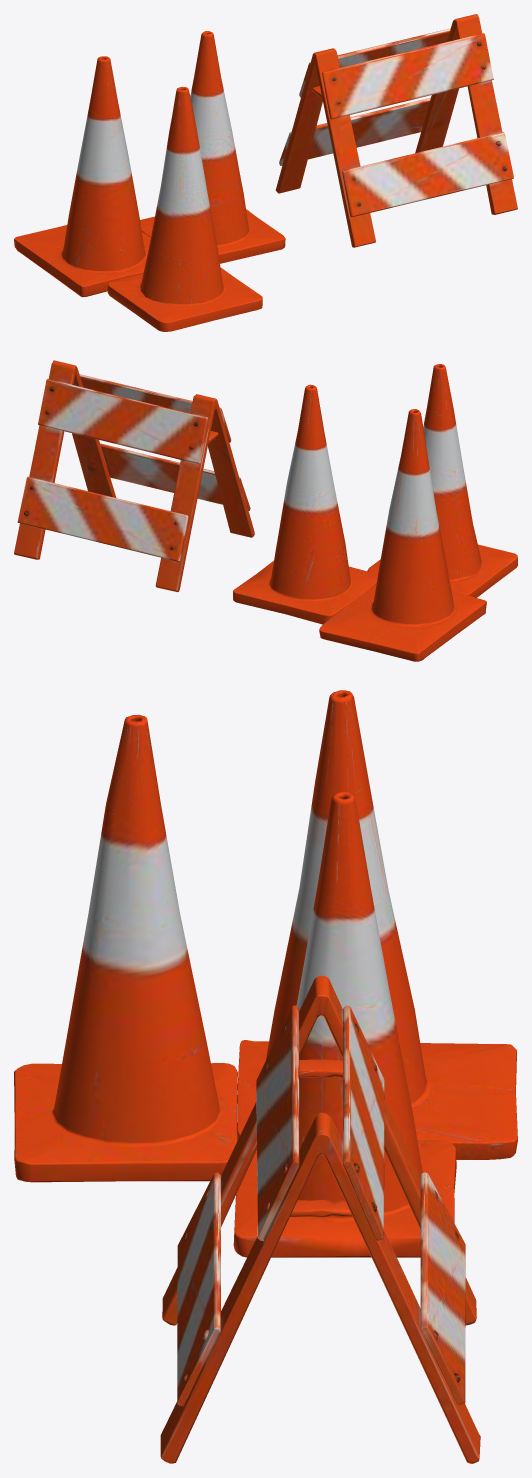
The model's file is cones.glb.
3 views of the same model, one above another, from view 1: azimuth 30°, elevation 25°; view 2: azimuth 150°, elevation 25°; view 3: azimuth 270°, elevation 25° (orthographic). The views are drawn at different scales.
Size of the model in its own units: 1 by 0.4858 by 0.5316.
1 material, 1 textured.
